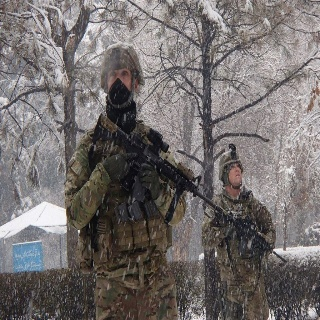rifle: (91, 113, 288, 266)
